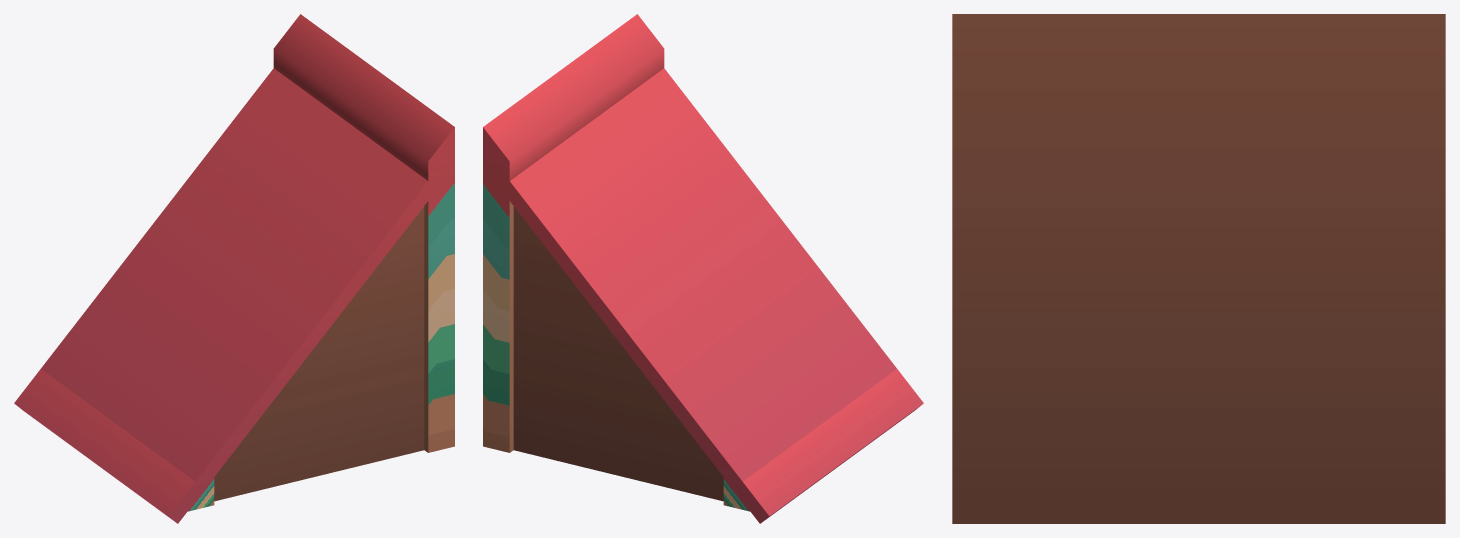
Rendered from roof-high.glb.
The picture shows the model from 3 angles, left to right: view 1: azimuth 30°, elevation 25°; view 2: azimuth 150°, elevation 25°; view 3: azimuth 270°, elevation 25°; orthographic projection. The views are drawn at different scales.
Visible parts, largest first — view 1: roof-high; view 2: roof-high; view 3: roof-high.
Boxes of the visible parts, box(x1,y1,x2,y2) form: roof-high: box(14, 14, 454, 523); roof-high: box(483, 14, 923, 523); roof-high: box(952, 14, 1445, 523).
Bounding box in the file's own units: 1.07 × 1.18 × 1.
Materials: 1 (1 with a texture image).
